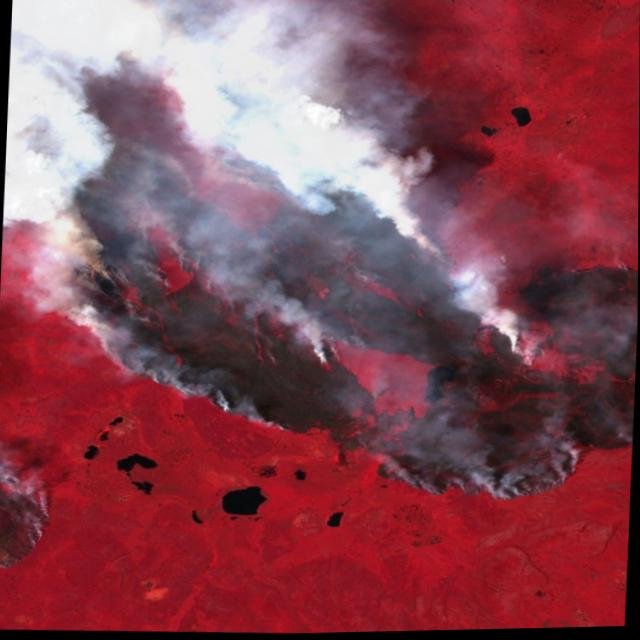fire: (32, 39, 600, 520), (0, 459, 54, 576)
